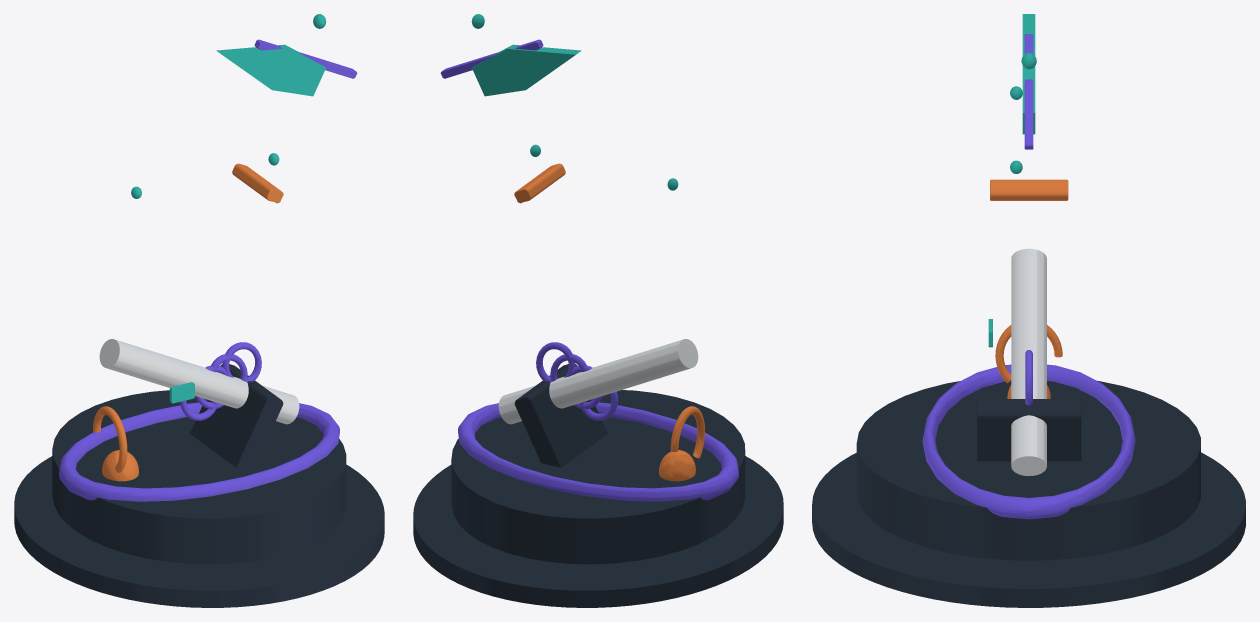
File: 0212_生活中的物理图鉴_钢琴.glb
3 views of the same model, side by side, from view 1: azimuth 30°, elevation 25°; view 2: azimuth 150°, elevation 25°; view 3: azimuth 270°, elevation 25° (orthographic). The views are drawn at different scales.
Parts seen in each view (by area): view 1: card_0212; view 2: card_0212; view 3: card_0212.
Boxes of the visible parts, x1,y1,x2,y2 form: card_0212: (14,14,384,607); card_0212: (413,14,783,607); card_0212: (812,14,1245,607).
Bounding box in the file's own units: 0.6712 × 1 × 0.7243.
